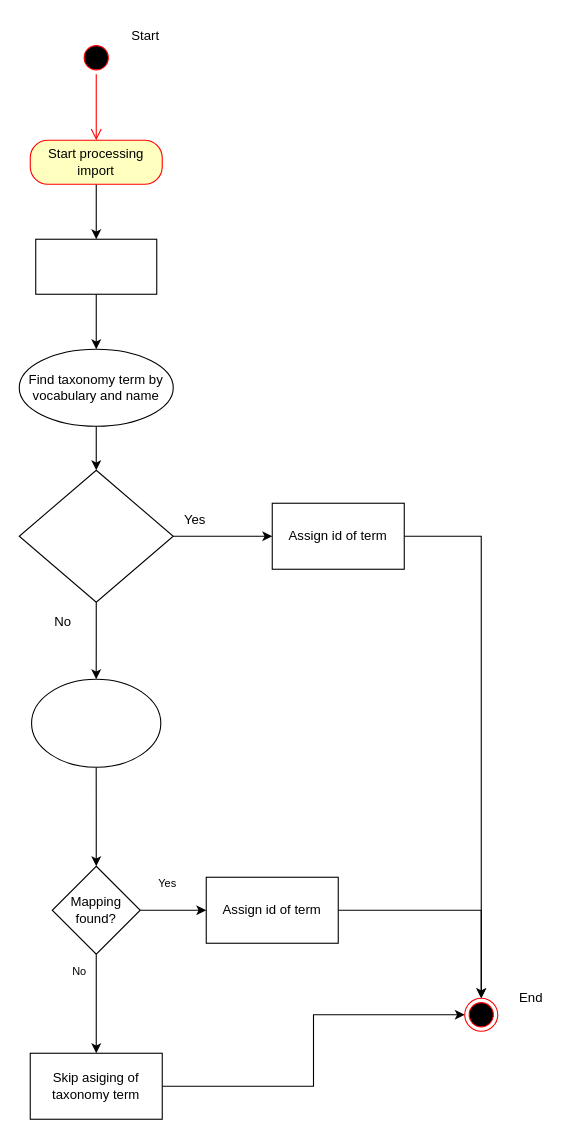
This 572x1139 diagram has some shape labels left out. The shapes that lost their labels are listed below. From the top down, each one's centre as x and y in pixels, then its label:
pixel 96 266: Feed entity (job)
pixel 95 535: Taxonomy term found by name?
pixel 95 722: Map taxonomy term from recruitee with drupal terms and vocabulary id
